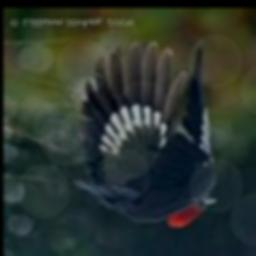Woodpecker: (73, 38, 217, 229)
